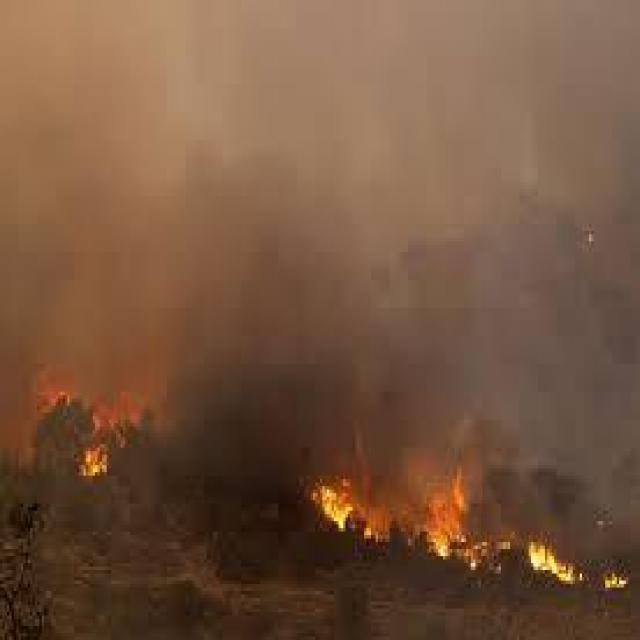Fire: (292, 448, 616, 592), (30, 364, 161, 501)
Smoke: (2, 0, 638, 377)
